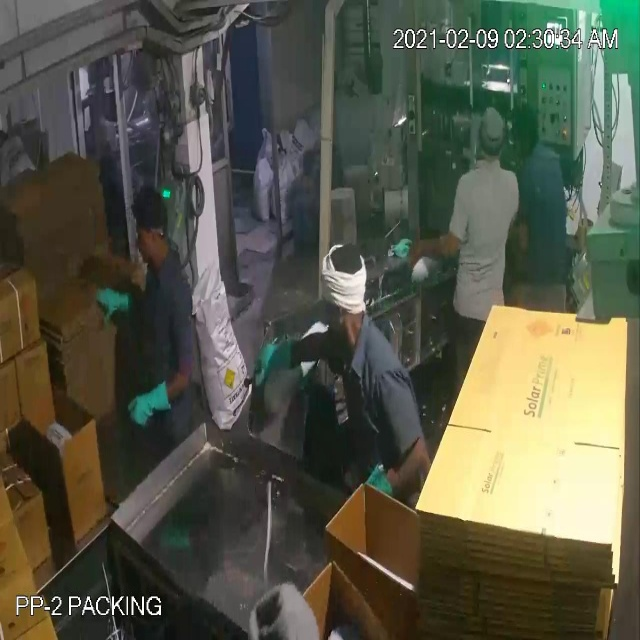Guantes: (120, 371, 184, 435), (247, 330, 306, 398), (90, 271, 142, 334)
Sin_guantes: (397, 208, 460, 270)
